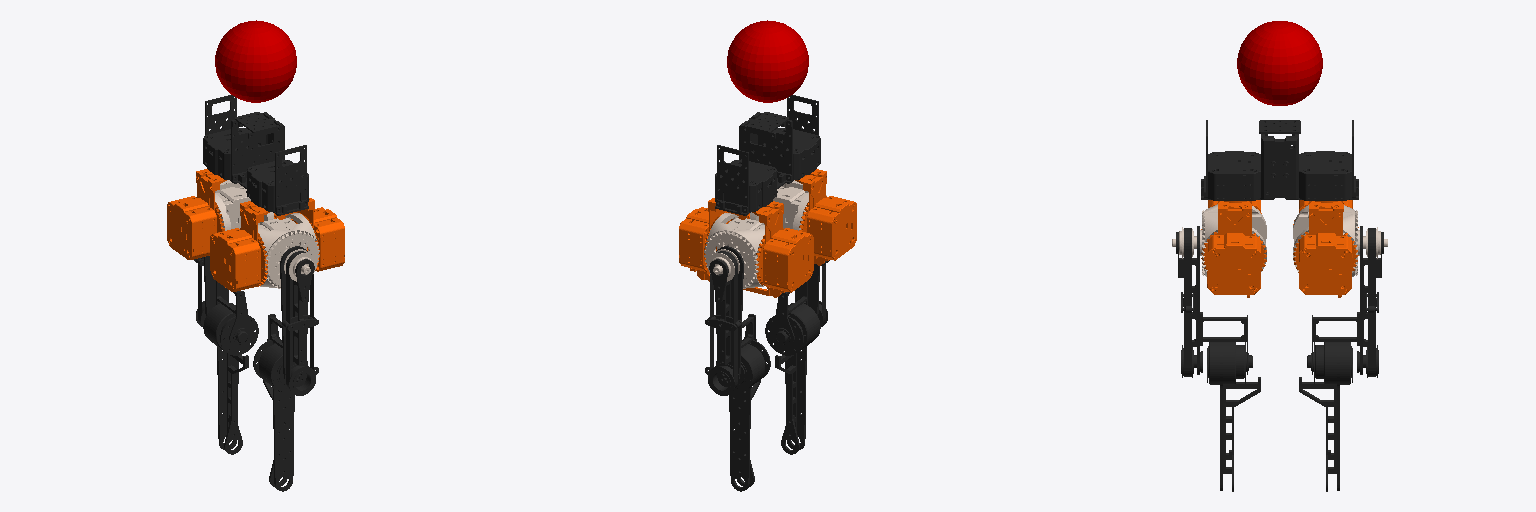
robot.urdf — clala:
<?xml version="1.0" ?>
<!-- =================================================================================== -->
<!-- |    This document was autogenerated by xacro from wwlambda_r2.xacro              | -->
<!-- |    EDITING THIS FILE BY HAND IS NOT RECOMMENDED                                 | -->
<!-- =================================================================================== -->
<robot name="clala" xmlns:xacro="http://ros.org/wiki/xacro">
  <material name="black">
    <color rgba="0.0 0.0 0.0 1.0"/>
  </material>
  <material name="blue">
    <color rgba="0.0 0.0 0.8 1.0"/>
  </material>
  <material name="green">
    <color rgba="0.0 0.8 0.0 1.0"/>
  </material>
  <material name="grey">
    <color rgba="0.2 0.2 0.2 1.0"/>
  </material>
  <material name="silver">
    <color rgba="0.9137254901960784 0.9137254901960784 0.8470588235294118 1.0"/>
  </material>
  <material name="orange">
    <color rgba="1.0 0.4235294117647059 0.0392156862745098 1.0"/>
  </material>
  <material name="brown">
    <color rgba="0.8705882352941177 0.8117647058823529 0.7647058823529411 1.0"/>
  </material>
  <material name="red">
    <color rgba="0.8 0.0 0.0 1.0"/>
  </material>
  <material name="white">
    <color rgba="1.0 1.0 1.0 1.0"/>
  </material>
  <link name="base">
    <visual>
      <origin rpy="0 0 0" xyz="0 0 0"/>
      <geometry>
        <box size="0.001 0.001 0.001"/>
      </geometry>
    </visual>
    <inertial>
      <origin rpy="0 0 0" xyz="0 0 0"/>
      <mass value="0.1"/>
      <inertia ixx=".00001" ixy="0." ixz=".015" iyy=".00001" iyz=".0" izz=".00001"/>
    </inertial>
  </link>
  <joint name="floating_base" type="fixed">
    <!-- <origin rpy="0 0 0" xyz="0 0 -0.042"/> -->
    <origin rpy="0 0 0" xyz="0 0 0.085"/>
    <parent link="trunk"/>
    <child link="base"/>
  </joint>
  <link name="trunk">
    <visual>
      <origin rpy="0 0 0" xyz="0 0 0"/>
      <geometry>
        <mesh filename="../meshes/ww_lambda_waist_r2.stl" scale="1 1 1"/>
      </geometry>
      <material name="grey"/>
    </visual>
    <collision>
      <origin rpy="0 0 0" xyz="0 0 0.107"/>
      <geometry>
        <box size="0.062 0.172 0.084"/>
      </geometry>
    </collision>
    <inertial>
      <origin rpy="0 0 0" xyz="0.001131 0 0.086906"/>
      <mass value="0.672"/>
      <inertia ixx="2193585.402e-9" ixy="-31.775e-9" ixz="-12830.536e-9" iyy="412257.108e-9" iyz="-30.175e-9" izz="2159649.914e-9"/>
    </inertial>
  </link>
  <joint name="body_joint" type="fixed">
    <parent link="trunk"/>
    <child link="body"/>
    <origin rpy="0 0 0" xyz="0 0 0.230"/>
  </joint>
  <link name="body">
    <inertial>
      <mass value="1.3"/>
      <origin rpy="0 0 0" xyz="0 0 0"/>
      <inertia ixx="3035947e-9" ixy="-1669e-9" ixz="2793e-9" iyy="2992228e-9" iyz="17720e-9" izz="3906372e-9"/>
    </inertial>
    <visual>
      <origin rpy="0 0 0" xyz="0 0 0"/>
      <geometry>
        <sphere radius="0.050" />
        <!-- <box size="0.100 0.100 0.100"/> -->
      </geometry>
      <material name="red"/>
    </visual>
    <collision>
      <origin rpy="0 0 0" xyz="0 0 0"/>
      <geometry>
        <sphere radius="0.050" />
        <!-- <box size="0.120 0.120 0.120"/> -->
      </geometry>
    </collision>
  </link>
  <joint name="imu_joint" type="fixed">
    <parent link="trunk"/>
    <child link="imu_link"/>
    <origin rpy="0 0 0" xyz="0 0 0"/>
  </joint>
  <link name="imu_link">
    <inertial>
      <mass value="0.001"/>
      <origin rpy="0 0 0" xyz="0 0 0"/>
      <inertia ixx="0.0001" ixy="0" ixz="0" iyy="0.000001" iyz="0" izz="0.0001"/>
    </inertial>
    <visual>
      <origin rpy="0 0 0" xyz="0 0 0"/>
      <geometry>
        <box size="0.001 0.001 0.001"/>
      </geometry>
      <material name="red"/>
    </visual>
    <collision>
      <origin rpy="0 0 0" xyz="0 0 0"/>
      <geometry>
        <box size=".001 .001 .001"/>
      </geometry>
    </collision>
  </link>
  <joint name="L_hip_joint" type="revolute">
    <origin rpy="0 0 0" xyz="0.0 0.053 0"/>
    <parent link="trunk"/>
    <child link="L_hip"/>
    <axis xyz="0 0 1"/>
    <dynamics damping="0.1" friction="0.0"/>
    <limit effort="10.0" lower="-0.2" upper="0.2" velocity="20"/>
  </joint>
  <link name="L_hip">
    <visual>
      <origin rpy="0.0 0 0" xyz="0 0 0"/>
      <geometry>
        <mesh filename="../meshes/ww_lambda_right_hip.stl" scale="1 1 1 "/>
      </geometry>
      <material name="orange"/>
    </visual>
    <collision>
      <origin rpy="0 0 0" xyz="0 0 0"/>
      <geometry>
        <box size="0.154 0.062 0.062"/>
      </geometry>
    </collision>
    <inertial>
      <origin rpy="0 0 0" xyz="0 0.000334 0.003935"/>
      <mass value="0.652898"/>
      <inertia ixx="534478.410e-9" ixy="192.291e-9" ixz="-1.325e-9" iyy="2262361.698e-9" iyz="5777.021e-9" izz="2094559.879e-9"/>
    </inertial>
  </link>
  <joint name="L_hip2_joint" type="revolute">
    <origin rpy="0 0 0" xyz="0 0 0"/>
    <parent link="L_hip"/>
    <child link="L_hip2"/>
    <axis xyz="1 0 0"/>
    <dynamics damping="0.1" friction="0.0"/>
    <limit effort="10.0" lower="-0.2" upper="1.0" velocity="20"/>
  </joint>
  <link name="L_hip2">
    <visual>
      <origin rpy="0 0 0" xyz="0 0 0"/>
      <geometry>
        <mesh filename="../meshes/ww_lambda_right_hip_joint_r2.stl" scale="1 -1 1 "/>
      </geometry>
      <material name="brown"/>
    </visual>
    <inertial>
      <origin rpy="0 0 0" xyz="0.0 0.0111622 -0.000255"/>
      <mass value="0.404998"/>
      <inertia ixx="289373.105e-9" ixy="43.945e-9" ixz="-31.242e-9" iyy="243507.837e-9" iyz="-1291.490e-9" izz="298143.715e-9"/>
    </inertial>
  </link>
  <joint name="L_thigh_joint" type="revolute">
    <origin rpy="0 0.0 0" xyz="0 0.040 0"/>
    <parent link="L_hip2"/>
    <child link="L_thigh"/>
    <axis xyz="0 1 0"/>
    <joint_properties damping="0.1" friction="0.0"/>
    <limit effort="10.0" lower="-1.57" upper="0.3" velocity="20"/>
  </joint>
  <link name="L_thigh">
    <visual>
      <origin rpy="0 0 0" xyz="0 0 0"/>
      <geometry>
        <mesh filename="../meshes/ww_lambda_right_thigh_r2.stl" scale="1 -1 1 "/>
      </geometry>
      <material name="grey"/>
    </visual>
    <collision>
      <origin rpy="0 0 0" xyz="0 0.011 -0.0762"/>
      <geometry>
        <box size="0.040 0.022 0.112"/>
      </geometry>
    </collision>
    <inertial>
      <origin rpy="0 0 0" xyz="0.00044 -0.016322 -0.134420"/>
      <mass value="0.366608"/>
      <inertia ixx="786472.731e-9" ixy="57.238e-9" ixz="333.551e-9" iyy="678521.016e-9" iyz="-166135.332e-9" izz="208660.299e-9"/>
    </inertial>
  </link>
  <joint name="L_calf_joint" type="revolute">
    <!-- <origin rpy="0 ${calf_angle} 0" xyz="0 -0.0038 -0.1524"/> -->
    <origin rpy="0 0.0 0" xyz="0 -0.0238 -0.1524"/>
    <parent link="L_thigh"/>
    <child link="L_calf"/>
    <axis xyz="0 1 0"/>
    <joint_properties damping="0.1" friction="0.0"/>
    <limit effort="10.0" lower="0.0" upper="2.5" velocity="20"/>
  </joint>
  <link name="L_calf">
    <visual>
      <origin rpy="0 0 0" xyz="0 0 0"/>
      <geometry>
        <mesh filename="../meshes/ww_lambda_right_shin_r2.stl" scale="1 -1 1 "/>
      </geometry>
      <material name="grey"/>
    </visual>
    <collision>
      <origin rpy="0 0 0" xyz="0 0.009 -0.0762"/>
      <geometry>
        <box size="0.030 0.024 0.112"/>
      </geometry>
    </collision>
    <inertial>
      <origin rpy="0 0 0" xyz="0.0 -0.007683 -0.078768"/>
      <mass value="0.056674"/>
      <inertia ixx="165297.155e-9" ixy="-0.046e-9" ixz="-0.870e-9" iyy="162576.784e-9" iyz="222.311e-9" izz="8384.868e-9"/>
    </inertial>
  </link>
  <joint name="L_toe_joint" type="revolute">
    <origin rpy="0 0.0 0" xyz="0 -0.0079 -0.1524"/>
    <parent link="L_calf"/>
    <child link="L_toe"/>
    <axis xyz="0 1 0"/>
    <joint_properties damping="0.1" friction="0.0"/>
    <limit effort="4.0" lower="-1.57" upper="1.57" velocity="20"/>
  </joint>
  <link name="L_toe">
    <visual>
      <origin rpy="0 0 0" xyz="0 0 0"/>
      <geometry>
        <mesh filename="../meshes/foot.stl" scale="1 1 1 "/>
      </geometry>
      <material name="green"/>
    </visual>
    <collision>
      <origin rpy="0 0 0" xyz="0 0 -0.0265"/>
      <geometry>
        <box size="0.120 0.040 0.021"/>
      </geometry>
    </collision>
    <inertial>
      <origin rpy="0 0 0" xyz="0 0.001619 -0.016022"/>
      <mass value="0.049085"/>
      <inertia ixx="7532.090e-9" 
                     ixy="-0.005e-9" iyy="28428.656e-9" 
                     ixz="0.037e-9" iyz="-1279.852e-9" izz="25997.217e-9"/>
      <!-- バタつくのでHECTORの足データを持ってきた -->
      <!-- <mass value="${toe_mass}"/> -->
      <!-- <inertia ixx="5.7298e-05" ixy="0.0" ixz="0.0" iyy="0.000290752" iyz="0.0" izz="0.000249491"/> -->
    </inertial>
  </link>
  <joint name="R_hip_joint" type="revolute">
    <origin rpy="0 0 0" xyz="0.0 -0.053 0"/>
    <parent link="trunk"/>
    <child link="R_hip"/>
    <axis xyz="0 0 1"/>
    <dynamics damping="0.1" friction="0.0"/>
    <limit effort="10.0" lower="-0.2" upper="0.2" velocity="20"/>
  </joint>
  <link name="R_hip">
    <visual>
      <origin rpy="0.0 0 0" xyz="0 0 0"/>
      <geometry>
        <mesh filename="../meshes/ww_lambda_right_hip.stl" scale="1 1 1"/>
      </geometry>
      <material name="orange"/>
    </visual>
    <collision>
      <origin rpy="0 0 0" xyz="0 0 0"/>
      <geometry>
        <box size="0.154 0.062 0.062"/>
      </geometry>
    </collision>
    <inertial>
      <origin rpy="0 0 0" xyz="0 0.000334 0.003935"/>
      <mass value="0.652898"/>
      <inertia ixx="534478.410e-9" ixy="192.291e-9" ixz="-1.325e-9" iyy="2262361.698e-9" iyz="5777.021e-9" izz="2094559.879e-9"/>
    </inertial>
  </link>
  <joint name="R_hip2_joint" type="revolute">
    <origin rpy="0 0 0" xyz="0 0 0"/>
    <parent link="R_hip"/>
    <child link="R_hip2"/>
    <axis xyz="1 0 0"/>
    <dynamics damping="0.1" friction="0.0"/>
    <limit effort="10.0" lower="-1.0" upper="0.2" velocity="20"/>
  </joint>
  <link name="R_hip2">
    <visual>
      <origin rpy="0 0 0" xyz="0 0 0"/>
      <geometry>
        <mesh filename="../meshes/ww_lambda_right_hip_joint_r2.stl" scale="1 1 1"/>
      </geometry>
      <material name="brown"/>
    </visual>
    <inertial>
      <origin rpy="0 0 0" xyz="0.0 -0.0111622 -0.000255"/>
      <mass value="0.404998"/>
      <inertia ixx="289373.105e-9" ixy="-43.945e-9" ixz="-31.242e-9" iyy="243507.837e-9" iyz="1291.490e-9" izz="298143.715e-9"/>
    </inertial>
  </link>
  <joint name="R_thigh_joint" type="revolute">
    <origin rpy="0 0.0 0" xyz="0 -0.040 0"/>
    <parent link="R_hip2"/>
    <child link="R_thigh"/>
    <axis xyz="0 1 0"/>
    <joint_properties damping="0.1" friction="0.0"/>
    <limit effort="10.0" lower="-1.57" upper="0.3" velocity="20"/>
  </joint>
  <link name="R_thigh">
    <visual>
      <origin rpy="0 0 0" xyz="0 0 0"/>
      <geometry>
        <mesh filename="../meshes/ww_lambda_right_thigh_r2.stl" scale="1 1 1"/>
      </geometry>
      <material name="grey"/>
    </visual>
    <collision>
      <origin rpy="0 0 0" xyz="0 -0.011 -0.0762"/>
      <geometry>
        <box size="0.040 0.022 0.112"/>
      </geometry>
    </collision>
    <inertial>
      <origin rpy="0 0 0" xyz="0.00044 0.016322 -0.134420"/>
      <mass value="0.366608"/>
      <inertia ixx="786472.731e-9" ixy="-57.238e-9" ixz="333.551e-9" iyy="678521.016e-9" iyz="166135.332e-9" izz="208660.299e-9"/>
    </inertial>
  </link>
  <joint name="R_calf_joint" type="revolute">
    <!-- <origin rpy="0 ${calf_angle} 0" xyz="0 0.0038 -0.1524"/> -->
    <origin rpy="0 0.0 0" xyz="0 0.0238 -0.1524"/>
    <parent link="R_thigh"/>
    <child link="R_calf"/>
    <axis xyz="0 1 0"/>
    <joint_properties damping="0.1" friction="0.0"/>
    <limit effort="10.0" lower="0.0" upper="2.5" velocity="20"/>
  </joint>
  <link name="R_calf">
    <visual>
      <origin rpy="0 0 0" xyz="0 0 0"/>
      <geometry>
        <mesh filename="../meshes/ww_lambda_right_shin_r2.stl" scale="1 1 1"/>
      </geometry>
      <material name="grey"/>
    </visual>
    <collision>
      <origin rpy="0 0 0" xyz="0 -0.009 -0.0762"/>
      <geometry>
        <box size="0.030 0.024 0.112"/>
      </geometry>
    </collision>
    <inertial>
      <origin rpy="0 0 0" xyz="0.0 0.007683 -0.078768"/>
      <mass value="0.056674"/>
      <inertia ixx="165297.155e-9" ixy="0.046e-9" ixz="-0.870e-9" iyy="162576.784e-9" iyz="-222.311e-9" izz="8384.868e-9"/>
    </inertial>
  </link>
  <joint name="R_toe_joint" type="revolute">
    <origin rpy="0 0.0 0" xyz="0 0.0079 -0.1524"/>
    <parent link="R_calf"/>
    <child link="R_toe"/>
    <axis xyz="0 1 0"/>
    <joint_properties damping="0.1" friction="0.0"/>
    <limit effort="4.0" lower="-1.57" upper="1.57" velocity="20"/>
  </joint>
  <link name="R_toe">
    <visual>
      <origin rpy="0 0 0" xyz="0 0 0"/>
      <geometry>
        <mesh filename="../meshes/foot.stl" scale="1 1 1"/>
      </geometry>
      <material name="green"/>
    </visual>
    <collision>
      <origin rpy="0 0 0" xyz="0 0 -0.0265"/>
      <geometry>
        <box size="0.120 0.040 0.021"/>
      </geometry>
    </collision>
    <inertial>
      <origin rpy="0 0 0" xyz="0 -0.001757 -0.01608"/>
      <mass value="0.052588"/>
      <inertia ixx="8207.198e-9" 
                     ixy="-0.005e-9" iyy="31374.088e-9" 
                     ixz="-0.037e-9" iyz="1491.969e-9" izz="28656.920e-9"/>
      <!-- バタつくのでHECTORの足データを持ってきた -->
      <!-- <mass value="${toe_mass}"/> -->
      <!-- <inertia ixx="5.7298e-05" ixy="0.0" ixz="0.0" iyy="0.000290752" iyz="0.0" izz="0.000249491"/> -->
    </inertial>
  </link>
  <!-- <link name="bumper_LF">
    <visual>
      <origin rpy="0 0 0" xyz="0 0 0"/>
      <geometry>
        <box size="0.03 0.03 0.002"/>
      </geometry>
      <material name="red"/>
    </visual>
    <collision name="bumper_LF_collision">
      <origin rpy="0 0 0" xyz="0 0 0"/>
      <geometry name="bumper_LF_collision">
        <box size="0.028999999999999998 0.028999999999999998 0.001"/>
      </geometry>
    </collision>
    <inertial>
      <origin rpy="0 0 0" xyz="0 0 0"/>
      <mass value="0.001"/>
      <inertia ixx="1e-9" ixy="0" ixz="0" iyy="1e-9" iyz="0" izz="1e-9"/>
    </inertial>
  </link>
  <joint name="LF_bumper" type="fixed">
    <parent link="L_toe"/>
    <child link="bumper_LF"/>
    <origin rpy="0 0 0" xyz="0.035 0 -0.030000000000000002"/>
  </joint>
  <gazebo reference="bumper_LF">
    <material>Gazebo/Red</material>
    <selfCollide>true</selfCollide>
    <sensor name="bumper_LF_sensor" type="contact">
      <contact>
        <collision>L_toe_fixed_joint_lump__bumper_LF_collision_collision_2</collision>
      </contact>
      <plugin filename="libgazebo_ros_bumper.so" name="gazebo_ros_bumper_controller">
        <alwaysOn>true</alwaysOn>
        <updateRate>10.0</updateRate>
        <bumperTopicName>bumper_LF</bumperTopicName>
        <frameName>world</frameName>
      </plugin>
    </sensor>
  </gazebo>
  <link name="bumper_LB">
    <visual>
      <origin rpy="0 0 0" xyz="0 0 0"/>
      <geometry>
        <box size="0.03 0.03 0.002"/>
      </geometry>
      <material name="red"/>
    </visual>
    <collision name="bumper_LB_collision">
      <origin rpy="0 0 0" xyz="0 0 0"/>
      <geometry name="bumper_LB_collision">
        <box size="0.028999999999999998 0.028999999999999998 0.001"/>
      </geometry>
    </collision>
    <inertial>
      <origin rpy="0 0 0" xyz="0 0 0"/>
      <mass value="0.001"/>
      <inertia ixx="1e-9" ixy="0" ixz="0" iyy="1e-9" iyz="0" izz="1e-9"/>
    </inertial>
  </link>
  <joint name="LB_bumper" type="fixed">
    <parent link="L_toe"/>
    <child link="bumper_LB"/>
    <origin rpy="0 0 0" xyz="-0.035 0 -0.030000000000000002"/>
  </joint>
  <gazebo reference="bumper_LB">
    <material>Gazebo/Red</material>
    <selfCollide>true</selfCollide>
    <sensor name="bumper_LB_sensor" type="contact">
      <contact>
        <collision>L_toe_fixed_joint_lump__bumper_LB_collision_collision_1</collision>
      </contact>
      <plugin filename="libgazebo_ros_bumper.so" name="gazebo_ros_bumper_controller">
        <alwaysOn>true</alwaysOn>
        <updateRate>10.0</updateRate>
        <bumperTopicName>bumper_LB</bumperTopicName>
        <frameName>world</frameName>
      </plugin>
    </sensor>
  </gazebo>
  <link name="bumper_RF">
    <visual>
      <origin rpy="0 0 0" xyz="0 0 0"/>
      <geometry>
        <box size="0.03 0.03 0.002"/>
      </geometry>
      <material name="red"/>
    </visual>
    <collision name="bumper_RF_collision">
      <origin rpy="0 0 0" xyz="0 0 0"/>
      <geometry name="bumper_RF_collision">
        <box size="0.028999999999999998 0.028999999999999998 0.001"/>
      </geometry>
    </collision>
    <inertial>
      <origin rpy="0 0 0" xyz="0 0 0"/>
      <mass value="0.001"/>
      <inertia ixx="1e-9" ixy="0" ixz="0" iyy="1e-9" iyz="0" izz="1e-9"/>
    </inertial>
  </link>
  <joint name="RF_bumper" type="fixed">
    <parent link="R_toe"/>
    <child link="bumper_RF"/>
    <origin rpy="0 0 0" xyz="0.035 0 -0.030000000000000002"/>
  </joint>
  <gazebo reference="bumper_RF">
    <material>Gazebo/Red</material>
    <selfCollide>true</selfCollide>
    <sensor name="bumper_RF_sensor" type="contact">
      <contact>
        <collision>R_toe_fixed_joint_lump__bumper_RF_collision_collision_2</collision>
      </contact>
      <plugin filename="libgazebo_ros_bumper.so" name="gazebo_ros_bumper_controller">
        <alwaysOn>true</alwaysOn>
        <updateRate>10.0</updateRate>
        <bumperTopicName>bumper_RF</bumperTopicName>
        <frameName>world</frameName>
      </plugin>
    </sensor>
  </gazebo>
  <link name="bumper_RB">
    <visual>
      <origin rpy="0 0 0" xyz="0 0 0"/>
      <geometry>
        <box size="0.03 0.03 0.002"/>
      </geometry>
      <material name="red"/>
    </visual>
    <collision name="bumper_RB_collision">
      <origin rpy="0 0 0" xyz="0 0 0"/>
      <geometry name="bumper_RB_collision">
        <box size="0.028999999999999998 0.028999999999999998 0.001"/>
      </geometry>
    </collision>
    <inertial>
      <origin rpy="0 0 0" xyz="0 0 0"/>
      <mass value="0.001"/>
      <inertia ixx="1e-9" ixy="0" ixz="0" iyy="1e-9" iyz="0" izz="1e-9"/>
    </inertial>
  </link>
  <joint name="RB_bumper" type="fixed">
    <parent link="R_toe"/>
    <child link="bumper_RB"/>
    <origin rpy="0 0 0" xyz="-0.035 0 -0.030000000000000002"/>
  </joint>
  <gazebo reference="bumper_RB">
    <material>Gazebo/Red</material>
    <selfCollide>true</selfCollide>
    <sensor name="bumper_RB_sensor" type="contact">
      <contact>
        <collision>R_toe_fixed_joint_lump__bumper_RB_collision_collision_1</collision>
      </contact>
      <plugin filename="libgazebo_ros_bumper.so" name="gazebo_ros_bumper_controller">
        <alwaysOn>true</alwaysOn>
        <updateRate>10.0</updateRate>
        <bumperTopicName>bumper_RB</bumperTopicName>
        <frameName>world</frameName>
      </plugin>
    </sensor>
  </gazebo> -->
</robot>

--- Facts derived from the render (not from the file) ---
3 views of the same robot in one strip: view 1: azimuth 30°, elevation 25°; view 2: azimuth 150°, elevation 25°; view 3: azimuth 270°, elevation 25° (orthographic).
Model clala with 14 links and 13 joints (10 revolute, 3 fixed), rooted at trunk, posed all joints at 0.
Visible links, largest first — view 1: trunk, R_thigh, R_hip, body, L_hip, L_thigh, R_hip2, L_calf, R_calf, L_hip2; view 2: trunk, L_hip, L_thigh, body, R_hip, R_thigh, L_hip2, R_calf, L_calf, R_hip2; view 3: trunk, body, L_hip, R_hip, L_thigh, R_thigh, L_calf, R_calf, R_hip2, L_hip2.
Boxes of the visible links, x1,y1,x2,y2 form: trunk: [203, 95, 308, 215]; R_thigh: [253, 246, 318, 395]; R_hip: [210, 198, 344, 291]; body: [215, 20, 296, 102]; L_hip: [167, 169, 296, 259]; L_thigh: [194, 256, 258, 355]; R_hip2: [258, 213, 319, 288]; L_calf: [209, 308, 248, 454]; R_calf: [263, 350, 294, 491]; L_hip2: [215, 180, 273, 230]; trunk: [715, 95, 820, 215]; L_hip: [679, 198, 813, 297]; L_thigh: [705, 246, 770, 395]; body: [727, 20, 808, 102]; R_hip: [728, 169, 856, 265]; R_thigh: [765, 260, 829, 355]; L_hip2: [704, 213, 764, 288]; R_calf: [775, 308, 814, 454]; L_calf: [729, 350, 760, 491]; R_hip2: [750, 180, 826, 230]; trunk: [1201, 120, 1358, 200]; body: [1237, 21, 1322, 105]; L_hip: [1293, 200, 1358, 297]; R_hip: [1201, 200, 1266, 297]; L_thigh: [1307, 226, 1383, 384]; R_thigh: [1176, 226, 1252, 384]; L_calf: [1299, 345, 1339, 491]; R_calf: [1220, 345, 1260, 491]; R_hip2: [1172, 204, 1266, 276]; L_hip2: [1293, 205, 1387, 276].
Bounding box of the posed robot: 0.154 × 0.25 × 0.5973 m (x, y, z).
Meshes: 6 distinct files referenced, 9 mesh visuals loaded (5 binary STL); not drawn: 2 (reference not matched to a file when rendering).
